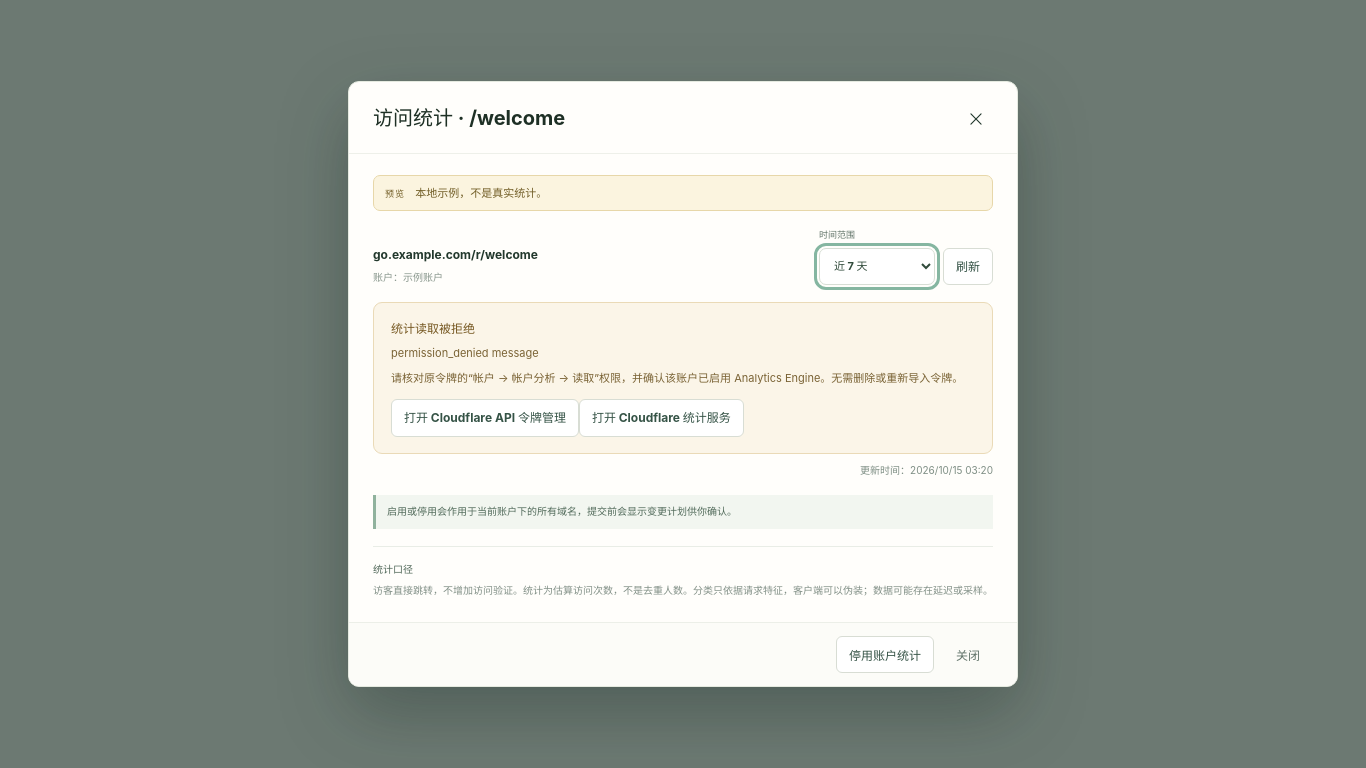
rejects an invalid account identifier before opening analytics settings
Click the button "打开 Cloudflare 统计服务" at x=661, y=418, box [579,399,744,437]
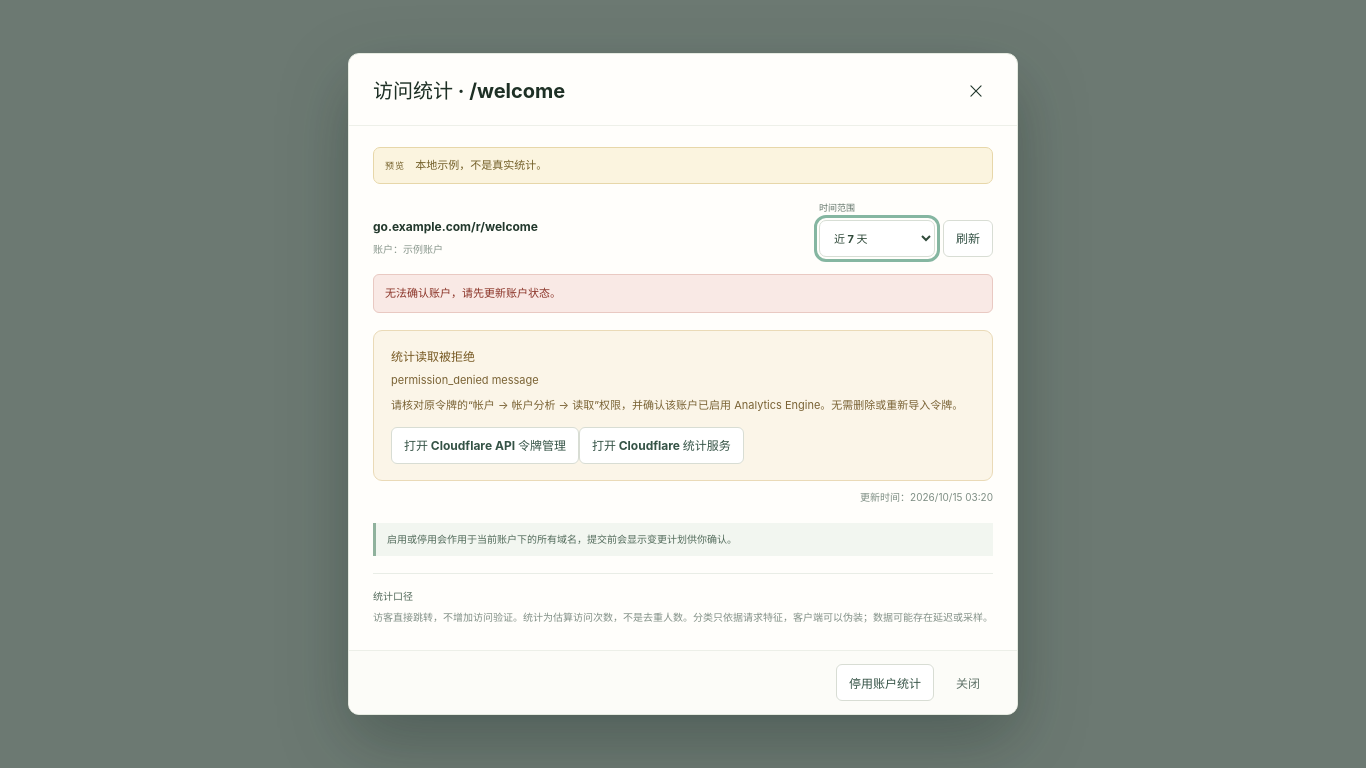
expect the text "无法确认账户，请先更新账户状态。" is shown: met, box [373,274,993,312]
